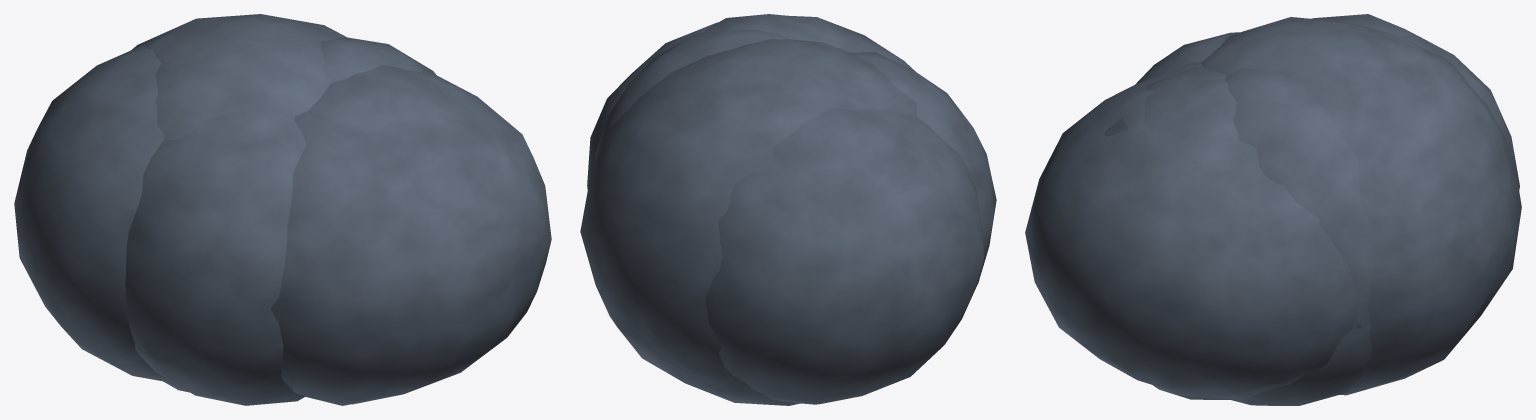
The model's file is pv_hromada_diamant.glb.
3 views of the same model, side by side, from view 1: azimuth 30°, elevation 25°; view 2: azimuth 150°, elevation 25°; view 3: azimuth 270°, elevation 25° (orthographic). The views are drawn at different scales.
Visible parts, largest first — view 1: dum; view 2: dum; view 3: dum.
Boxes of the visible parts, <box> form: dum: <box>14,14,551,405</box>; dum: <box>580,14,996,405</box>; dum: <box>1025,14,1521,405</box>.
Size of the model in its own units: 8.33 by 6.33 by 8.47.
Materials: 1 (1 with a texture image).
